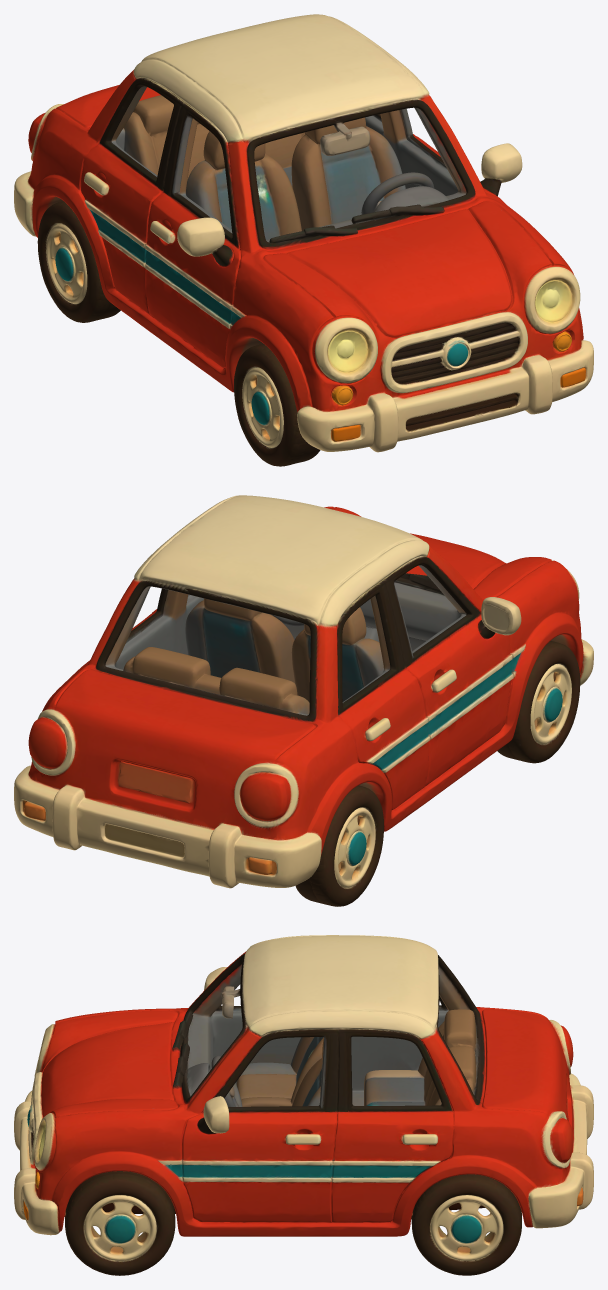
File: CartoonCar.glb
3 views of the same model, one above another, from view 1: azimuth 30°, elevation 25°; view 2: azimuth 150°, elevation 25°; view 3: azimuth 270°, elevation 25° (orthographic). The views are drawn at different scales.
Parts seen in each view (by area): view 1: tripo_node_27c90b1a-1710-48de-94a1-edef19aa7568; view 2: tripo_node_27c90b1a-1710-48de-94a1-edef19aa7568; view 3: tripo_node_27c90b1a-1710-48de-94a1-edef19aa7568.
Boxes of the visible parts, x1,y1,x2,y2 form: tripo_node_27c90b1a-1710-48de-94a1-edef19aa7568: [14, 14, 593, 466]; tripo_node_27c90b1a-1710-48de-94a1-edef19aa7568: [14, 495, 593, 906]; tripo_node_27c90b1a-1710-48de-94a1-edef19aa7568: [14, 935, 593, 1275].
Size of the model in its own units: 0.5822 by 0.4638 by 0.9795.
Materials: 1 (1 with a texture image).
